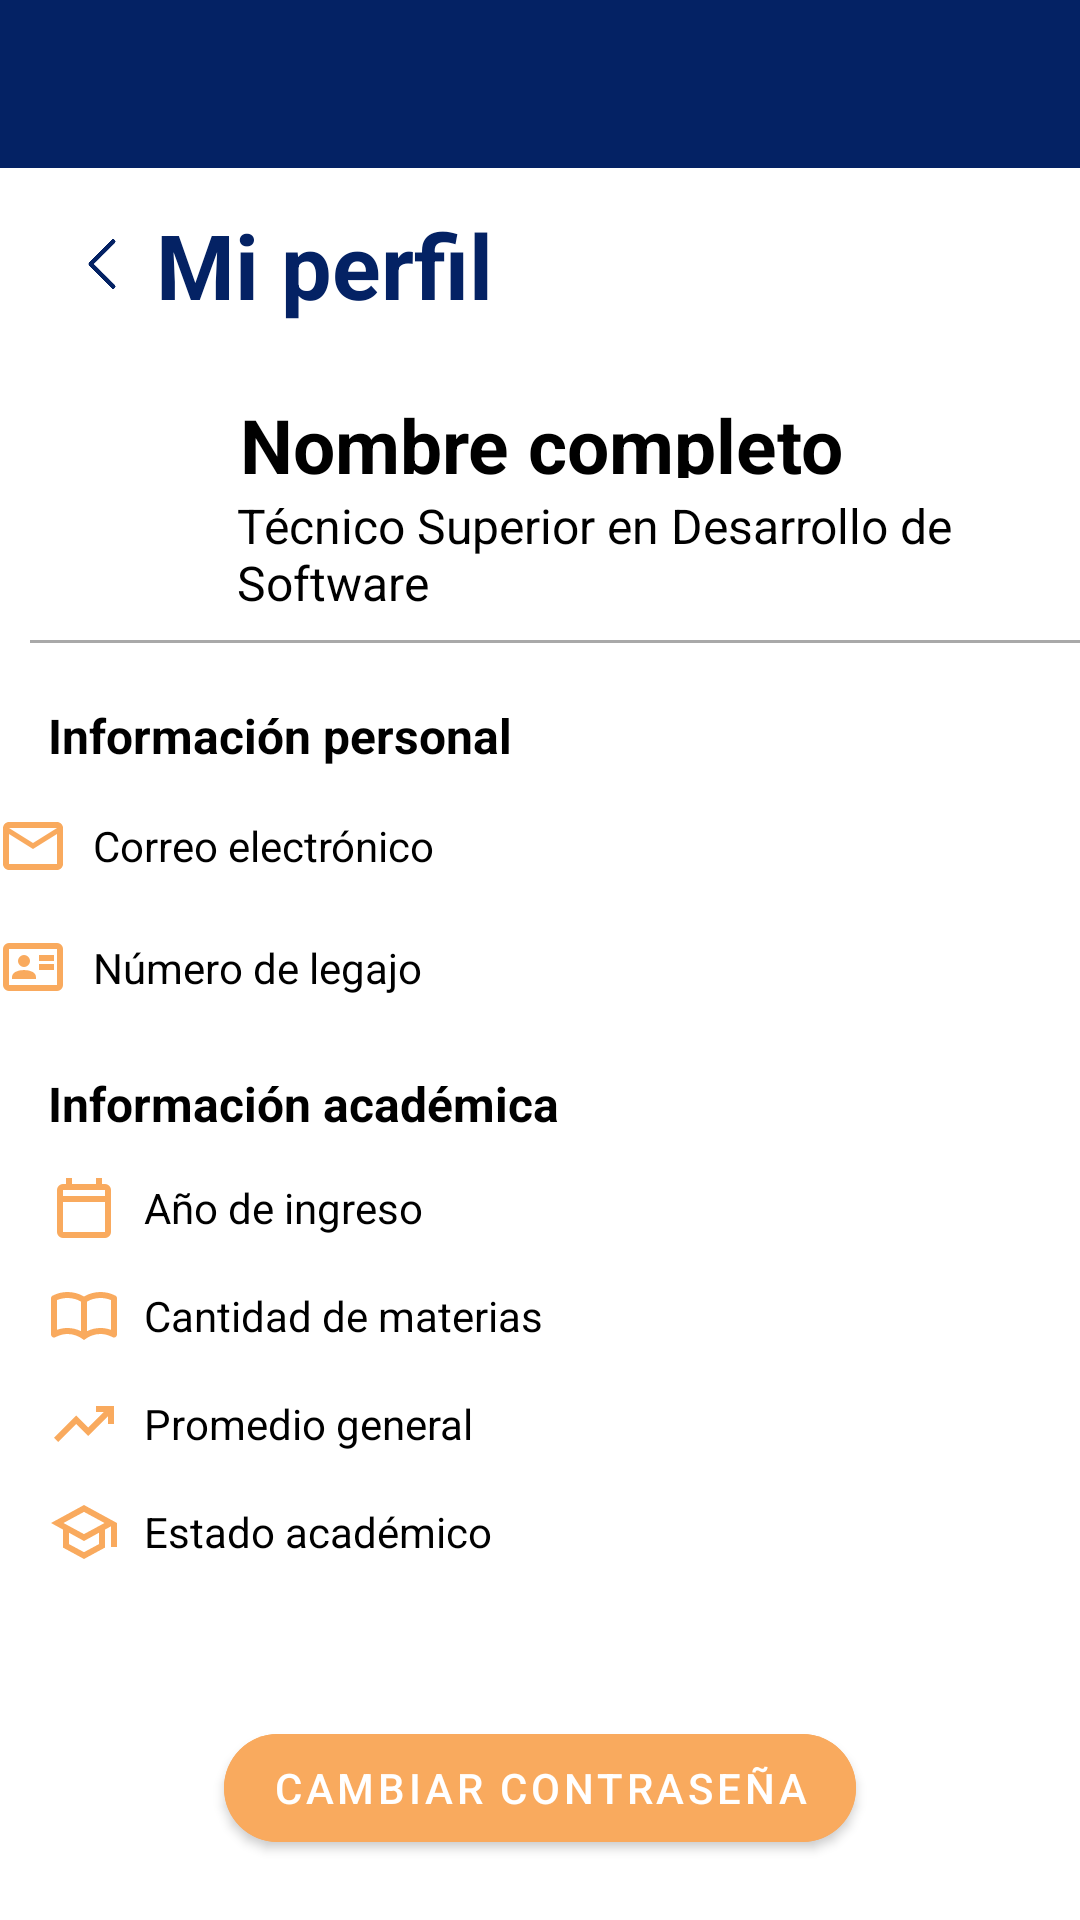

Screen size 1080px×1920px. Icon name, then its box in pixels as (x1, y1, x2, y2):
Volver: (88, 239, 116, 289)
